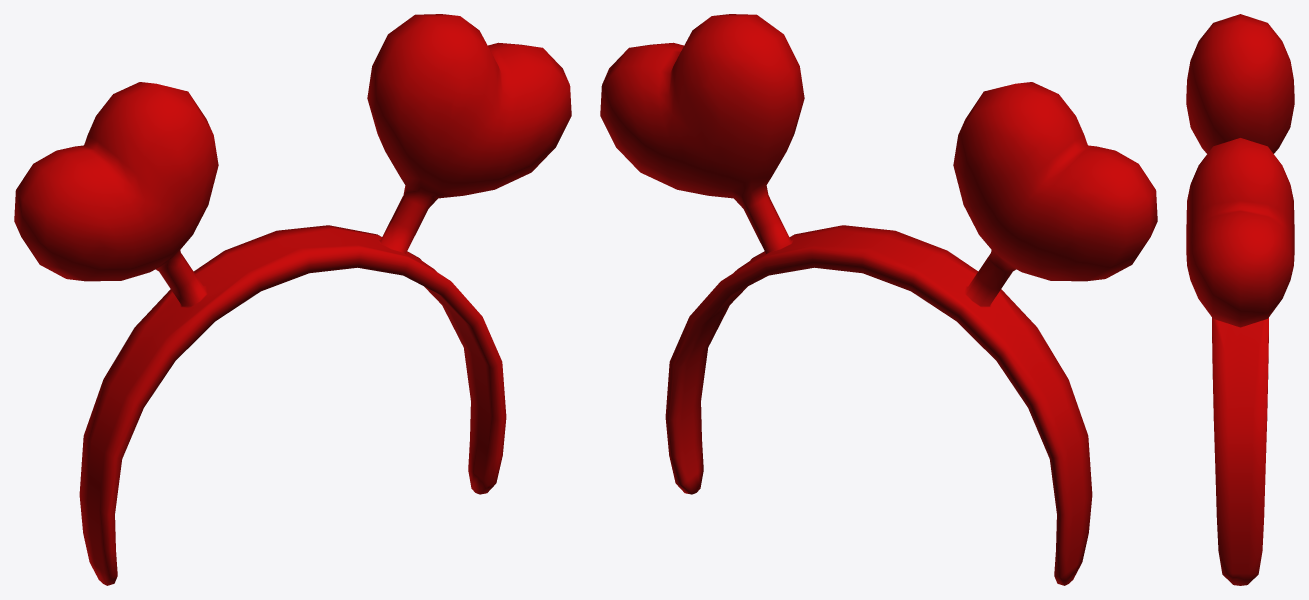
The model's file is HeartHeadband.fbx.
The picture shows the model from 3 angles, left to right: view 1: azimuth 30°, elevation 25°; view 2: azimuth 150°, elevation 25°; view 3: azimuth 270°, elevation 25°; orthographic projection. The views are drawn at different scales.
Visible parts, largest first — view 1: HeartHeadband; view 2: HeartHeadband; view 3: HeartHeadband.
Boxes of the visible parts, x1,y1,x2,y2 form: HeartHeadband: (14, 14, 571, 585); HeartHeadband: (600, 14, 1157, 585); HeartHeadband: (1186, 14, 1294, 585).
Bounding box in the file's own units: 106 × 90.6 × 20.96.
1 material, 1 textured.
